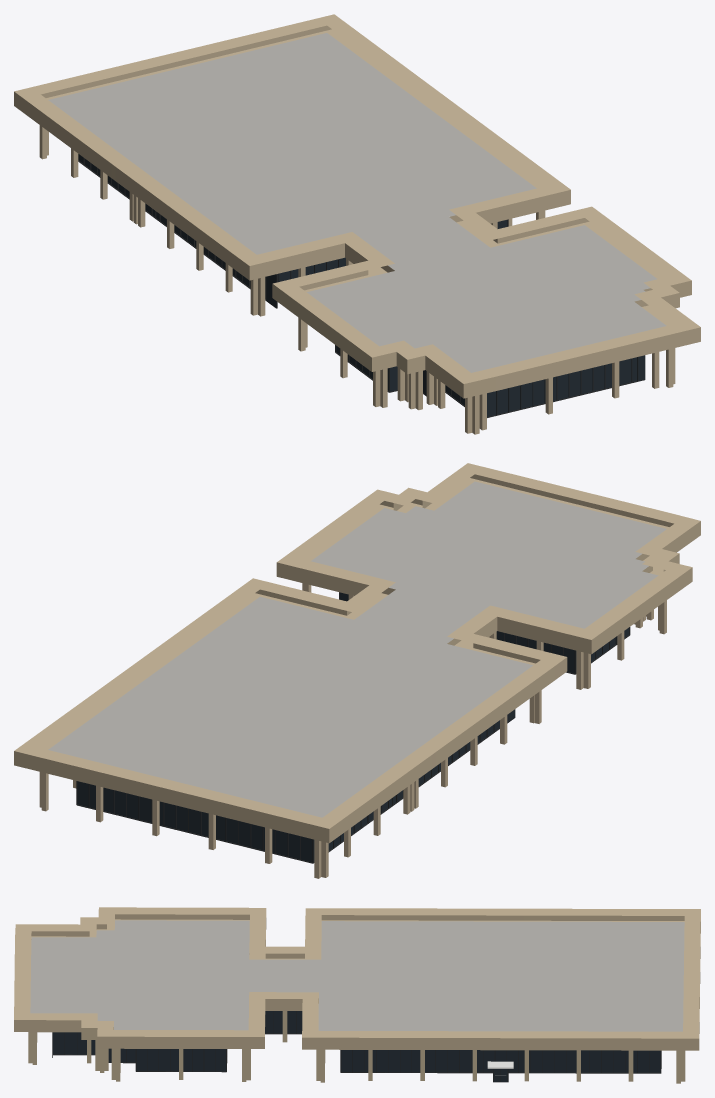
File: karl_hoblitzelle_hall.glb
3 views of the same model, one above another, from view 1: azimuth 30°, elevation 25°; view 2: azimuth 150°, elevation 25°; view 3: azimuth 270°, elevation 25° (orthographic). The views are drawn at different scales.
Visible parts, largest first — view 1: karl_hoblitzelle_hall_Roof_Membrane, karl_hoblitzelle_hall_Wall_tan, karl_hoblitzelle_hall_Glass_dark, karl_hoblitzelle_hall_Frame_Dark; view 2: karl_hoblitzelle_hall_Roof_Membrane, karl_hoblitzelle_hall_Wall_tan, karl_hoblitzelle_hall_Glass_dark, karl_hoblitzelle_hall_Frame_Dark; view 3: karl_hoblitzelle_hall_Roof_Membrane, karl_hoblitzelle_hall_Wall_tan, karl_hoblitzelle_hall_Glass_dark, karl_hoblitzelle_hall_Frame_Dark.
Boxes of the visible parts, box(x1,y1,x2,y2) form: karl_hoblitzelle_hall_Roof_Membrane: box(48, 33, 666, 372); karl_hoblitzelle_hall_Wall_tan: box(14, 14, 700, 434); karl_hoblitzelle_hall_Glass_dark: box(78, 154, 644, 416); karl_hoblitzelle_hall_Frame_Dark: box(78, 157, 645, 417); karl_hoblitzelle_hall_Roof_Membrane: box(48, 481, 666, 817); karl_hoblitzelle_hall_Wall_tan: box(14, 463, 700, 878); karl_hoblitzelle_hall_Glass_dark: box(77, 592, 629, 862); karl_hoblitzelle_hall_Frame_Dark: box(76, 592, 630, 863); karl_hoblitzelle_hall_Roof_Membrane: box(30, 920, 684, 1031); karl_hoblitzelle_hall_Wall_tan: box(14, 907, 700, 1083); karl_hoblitzelle_hall_Glass_dark: box(53, 1011, 660, 1081); karl_hoblitzelle_hall_Frame_Dark: box(52, 1011, 661, 1082).
Size of the model in its own units: 41.97 by 7.64 by 92.83.
